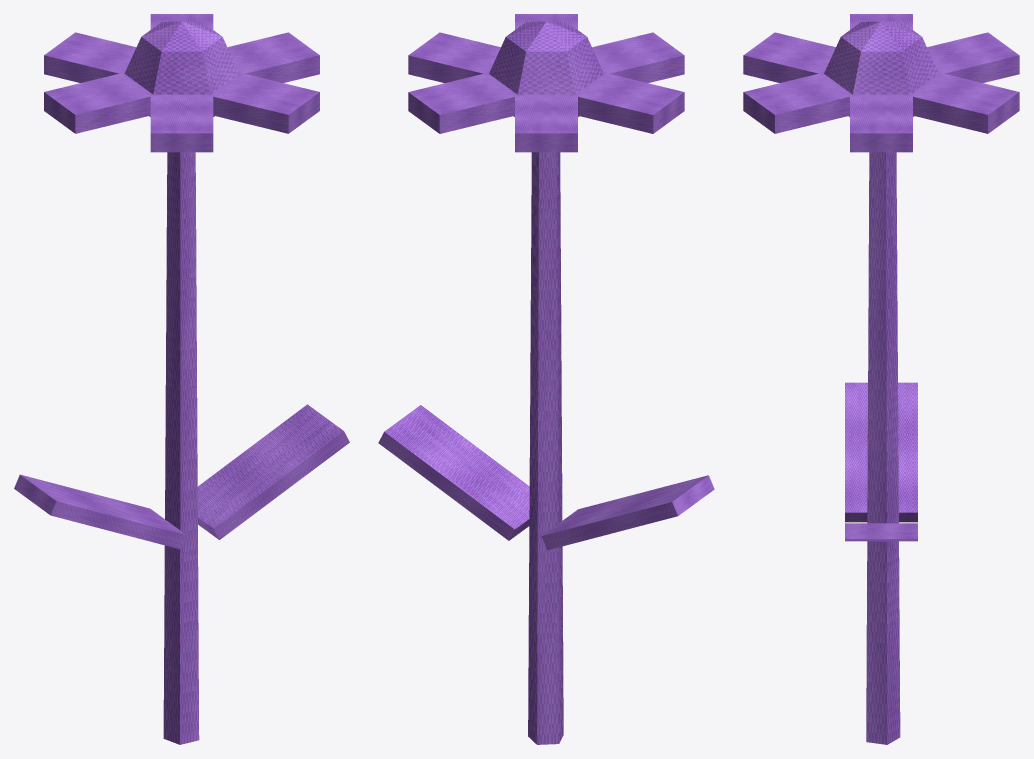
The model's file is lavanda.glb.
3 views of the same model, side by side, from view 1: azimuth 30°, elevation 25°; view 2: azimuth 150°, elevation 25°; view 3: azimuth 270°, elevation 25° (orthographic).
Parts seen in each view (by area): view 1: lavanda; view 2: lavanda; view 3: lavanda.
Part boxes in pixels (x1=…): lavanda: x1=14, y1=14, x2=349, y2=744; lavanda: x1=378, y1=14, x2=714, y2=744; lavanda: x1=743, y1=14, x2=1019, y2=744.
Bounding box in the file's own units: 0.3306 × 0.755 × 0.2638.
Materials: 1 (1 with a texture image).
